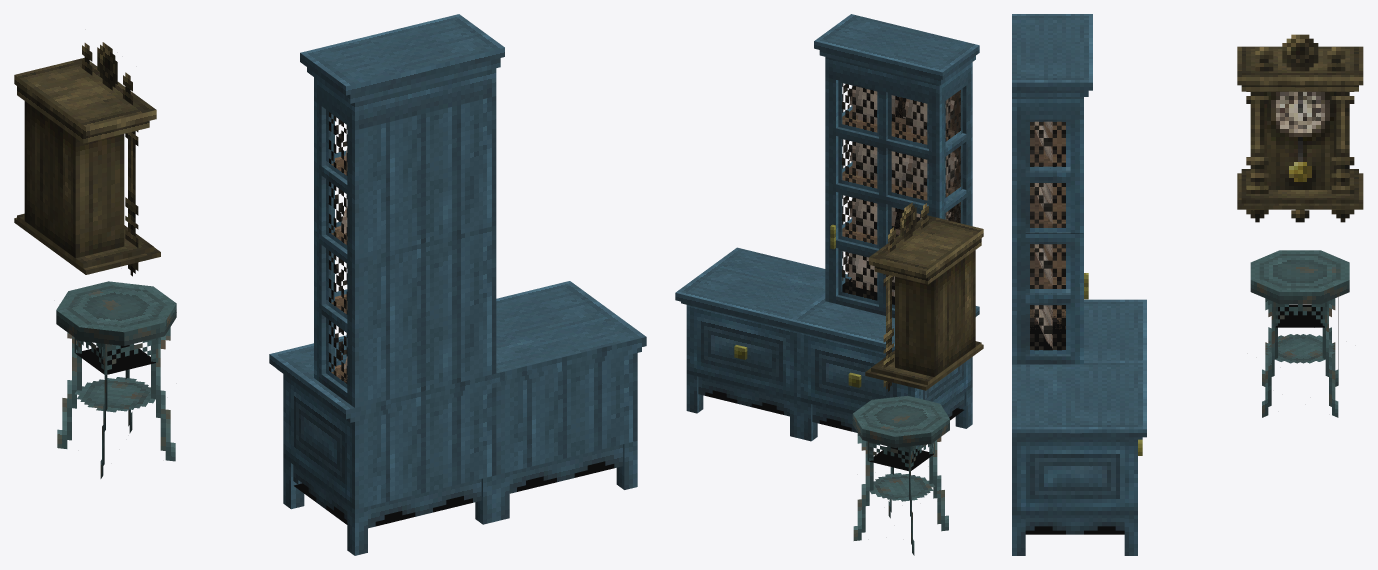
File: Без назви.fbx
3 renders of one model, left to right at view 1: azimuth 30°, elevation 25°; view 2: azimuth 150°, elevation 25°; view 3: azimuth 270°, elevation 25°, orthographic. The views are drawn at different scales.
Parts seen in each view (by area): view 1: obj39, obj11, obj327; view 2: obj39, obj11, obj327; view 3: obj39, obj11, obj327.
Part boxes in pixels (<box>): obj39: <box>269,14,646,555</box>; obj11: <box>14,42,160,276</box>; obj327: <box>56,281,176,478</box>; obj39: <box>675,14,979,449</box>; obj11: <box>865,202,983,391</box>; obj327: <box>852,395,949,555</box>; obj39: <box>1012,14,1146,555</box>; obj11: <box>1237,34,1363,222</box>; obj327: <box>1250,250,1349,417</box>.
Bounding box in the file's own units: 4900 × 5100 × 3907.
Materials: 13 (13 with a texture image).
